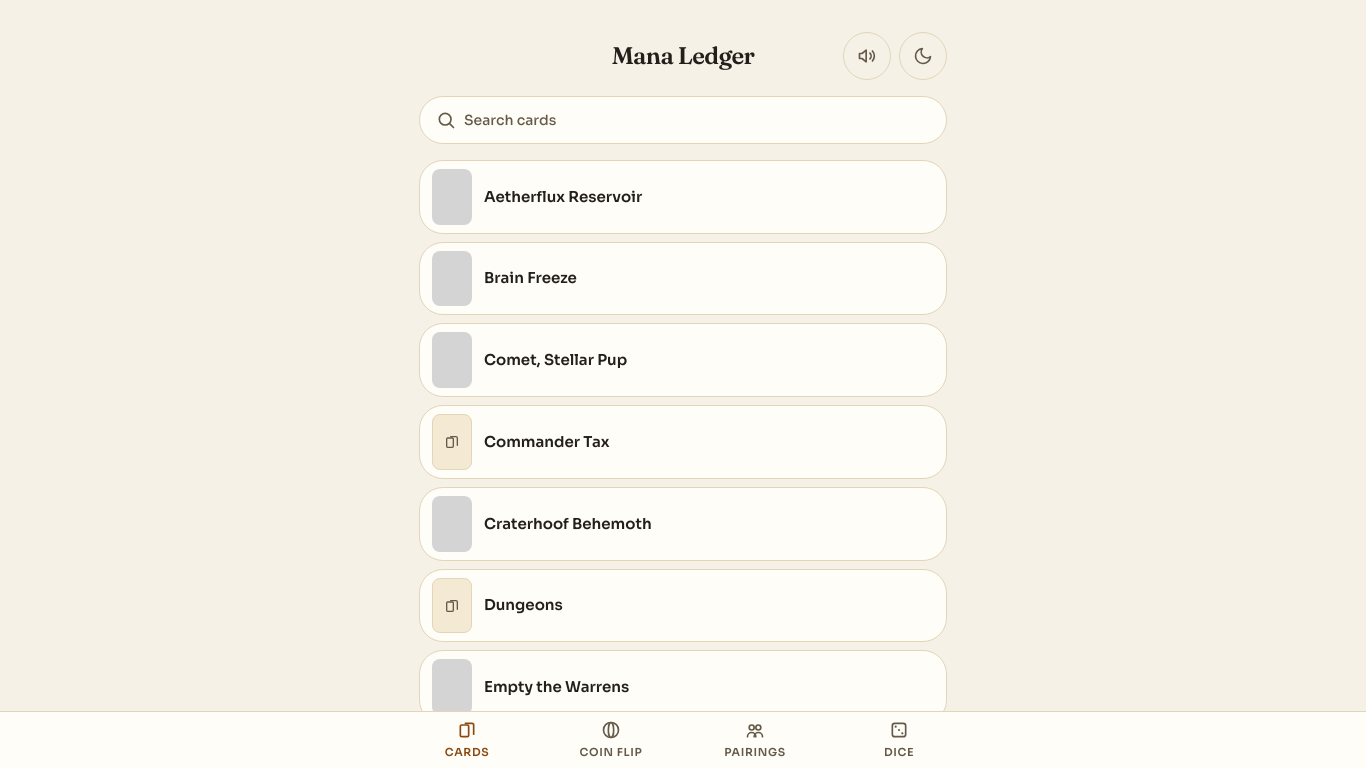
App › opens the dice tab and keeps the tab bar
Click the button "Dice": (899, 740) [827,712,971,767]
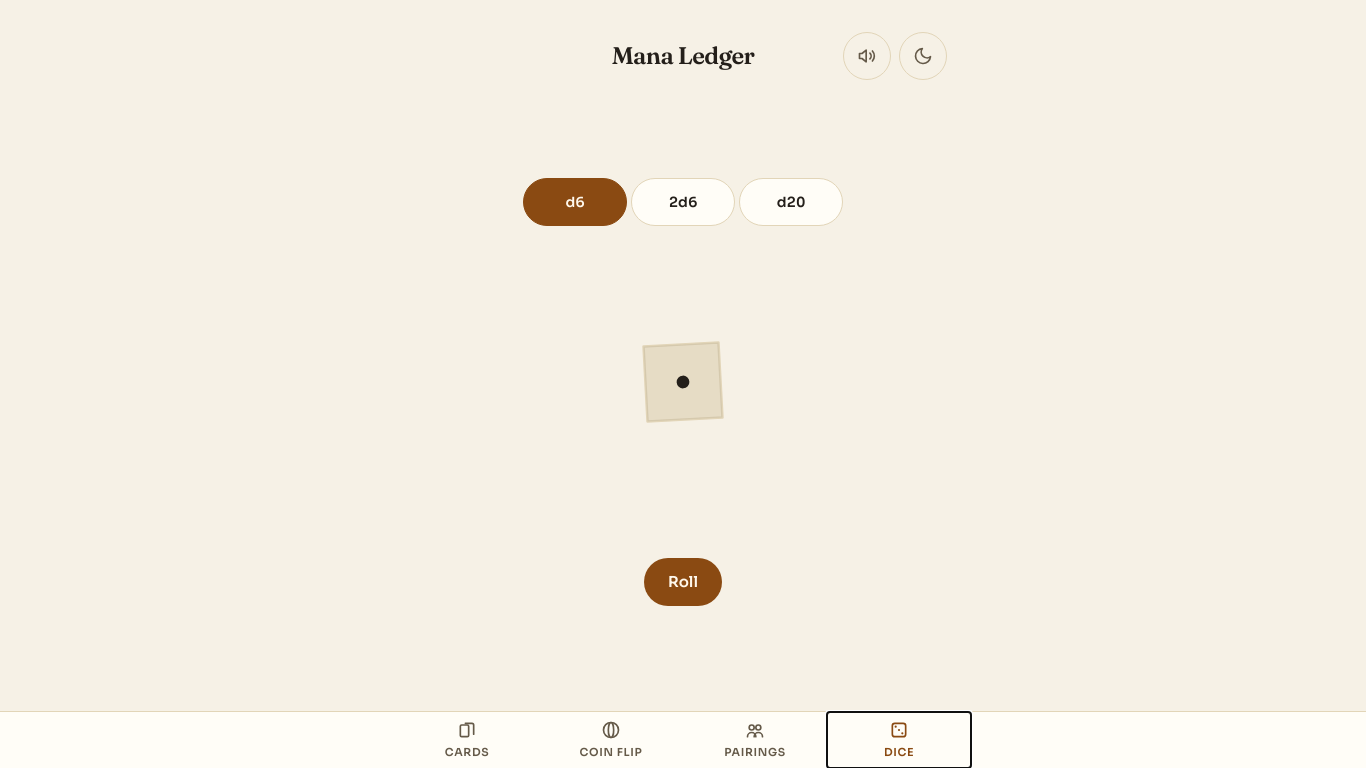
Check: the button "Cards" is shown, box [395,712,539,767]
Check: the element named "Dice" is shown, box [523,178,843,226]
Check: the button "Roll" is shown, box [644,558,722,606]
